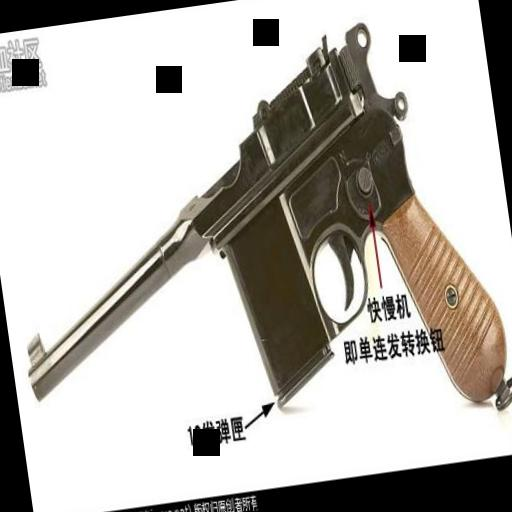Handgun: (0, 8, 512, 480)
